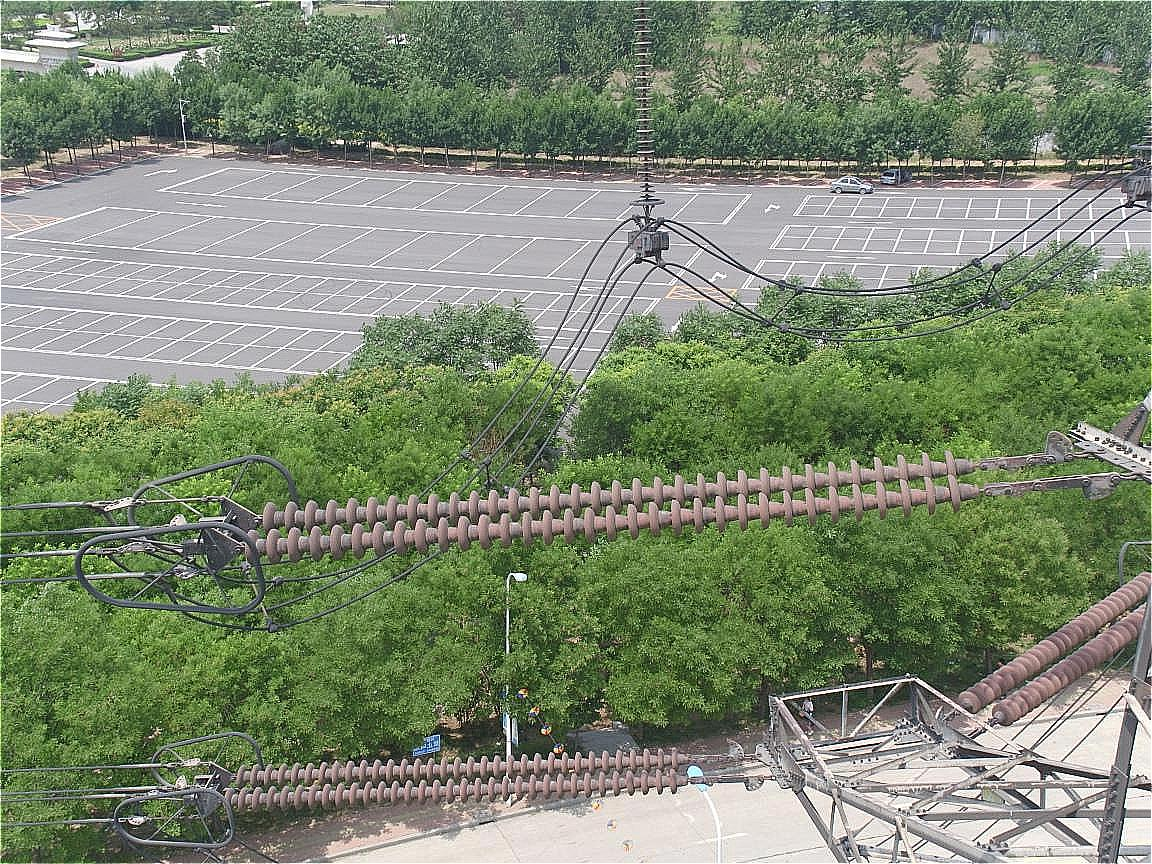insultor1: (220, 441, 1011, 549), (214, 745, 689, 816)
